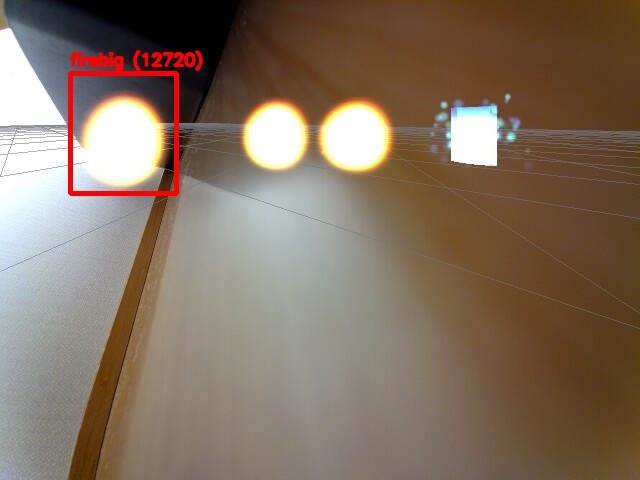firebig: (70, 73, 176, 193)
